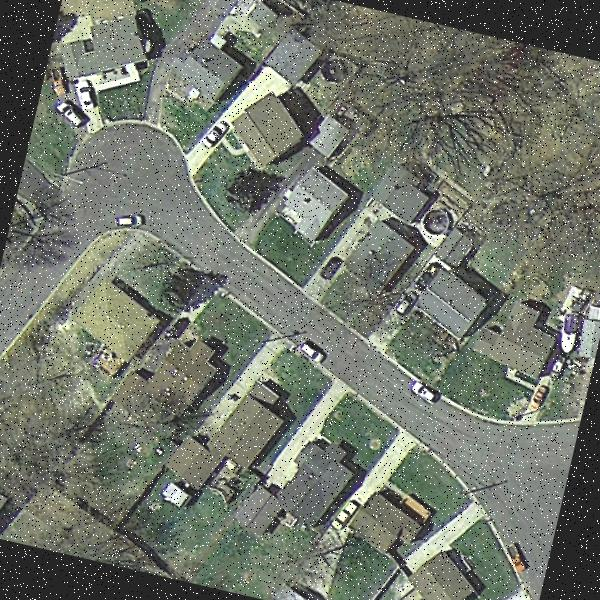Buildings: (189, 376, 280, 502), (346, 164, 428, 301), (274, 438, 357, 536), (482, 292, 560, 386), (273, 173, 352, 256), (68, 18, 142, 92), (222, 96, 296, 163), (132, 343, 209, 404), (164, 40, 230, 106), (76, 278, 144, 340), (354, 488, 412, 550), (420, 262, 471, 316), (409, 557, 469, 600)
